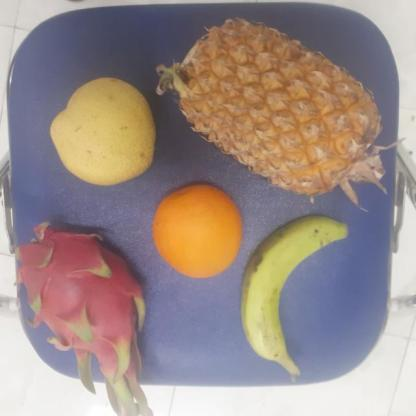banana: (240, 217, 351, 368)
orange: (150, 185, 243, 278)
pear: (47, 75, 162, 185)
pineapple: (170, 16, 394, 193)
pitaya: (18, 219, 156, 371)
